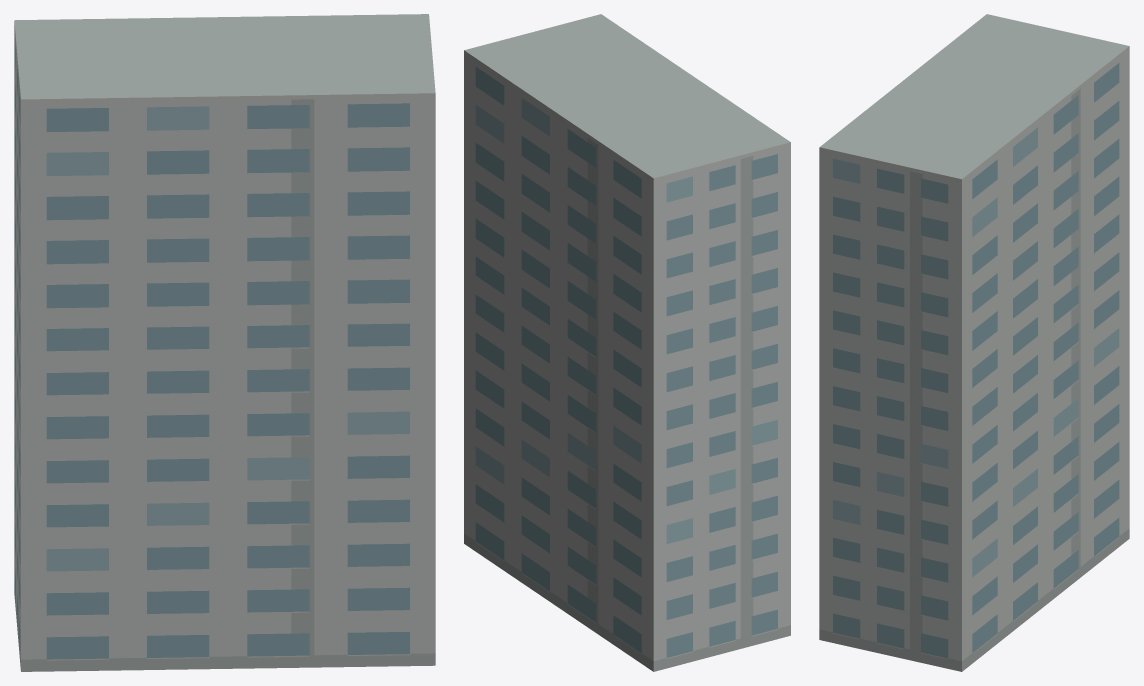
Rendered from residential-ccf9e753-f518-48e0-bc17-3ad9561341bc.glb.
3 renders of one model, left to right at view 1: azimuth 30°, elevation 25°; view 2: azimuth 150°, elevation 25°; view 3: azimuth 270°, elevation 25°, orthographic. The views are drawn at different scales.
Parts seen in each view (by area): view 1: residential-ccf9e753-f518-48e0-bc17-3ad9561341bc.tmp; view 2: residential-ccf9e753-f518-48e0-bc17-3ad9561341bc.tmp; view 3: residential-ccf9e753-f518-48e0-bc17-3ad9561341bc.tmp.
Part boxes in pixels (x1,y1,x2,y2): residential-ccf9e753-f518-48e0-bc17-3ad9561341bc.tmp: (14,14,435,671); residential-ccf9e753-f518-48e0-bc17-3ad9561341bc.tmp: (464,14,790,671); residential-ccf9e753-f518-48e0-bc17-3ad9561341bc.tmp: (819,14,1129,671).
Size of the model in its own units: 23.75 by 33 by 18.83.
